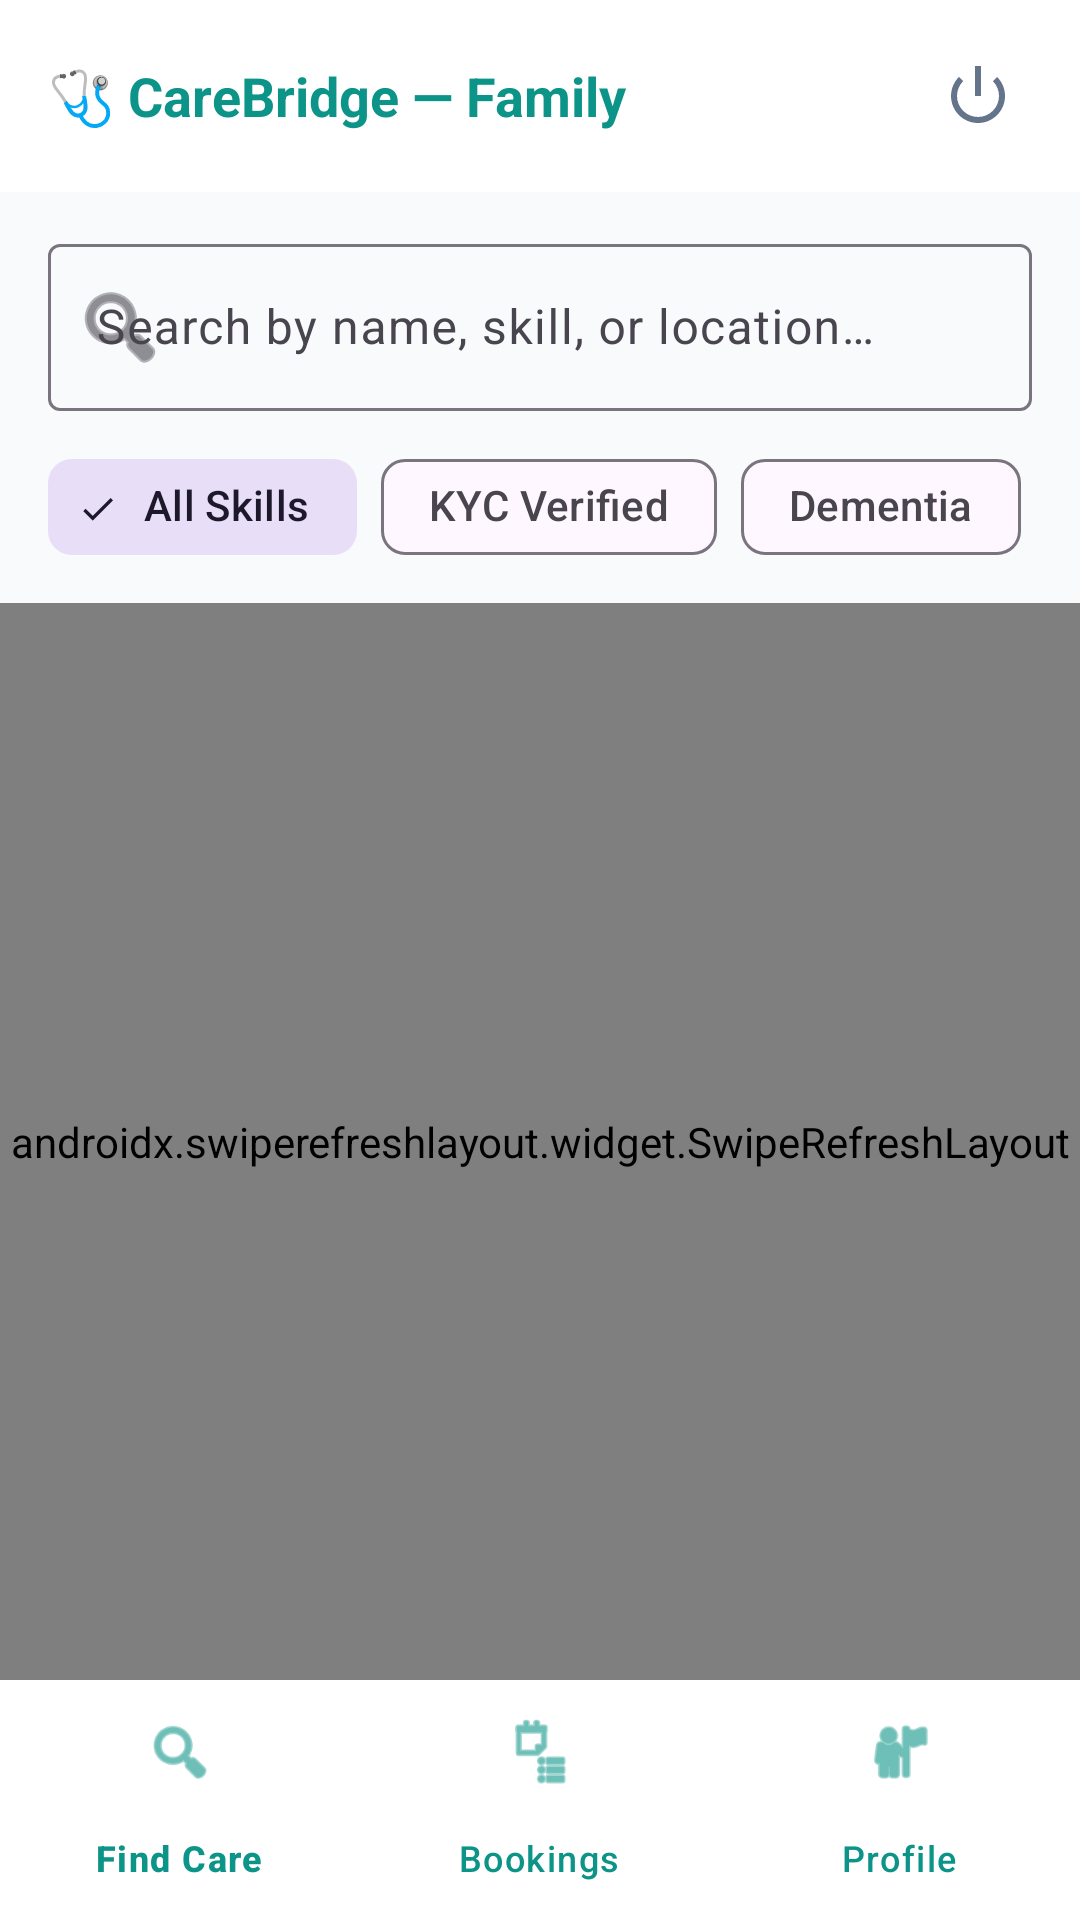

Point at icon controls on the screen. Image size 1080px x 1920px, points as point (x, y).
lock power off: point (978, 94)
